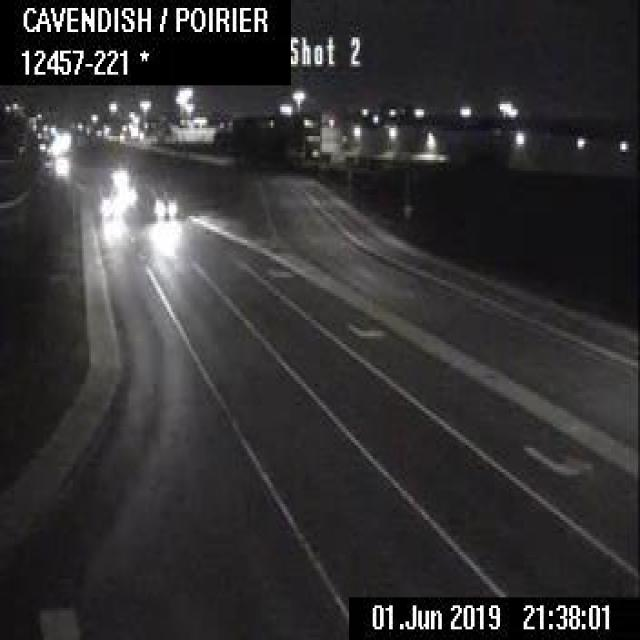vehicle: (150, 192, 177, 216)
